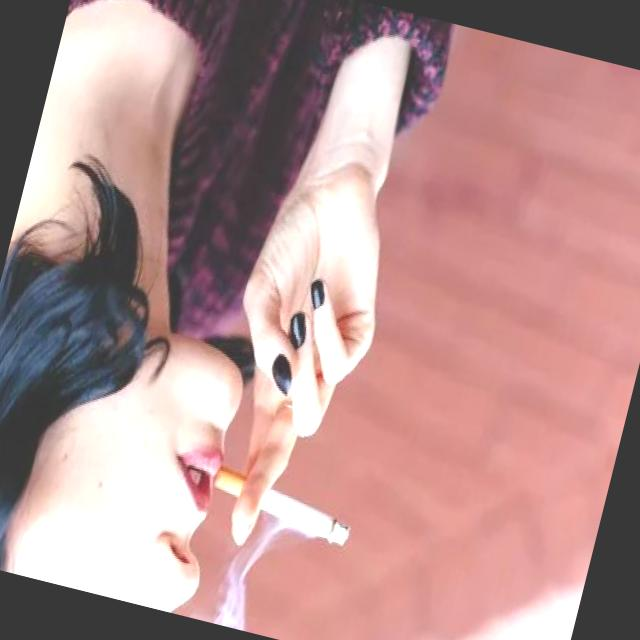smoke: (202, 452, 367, 558)
